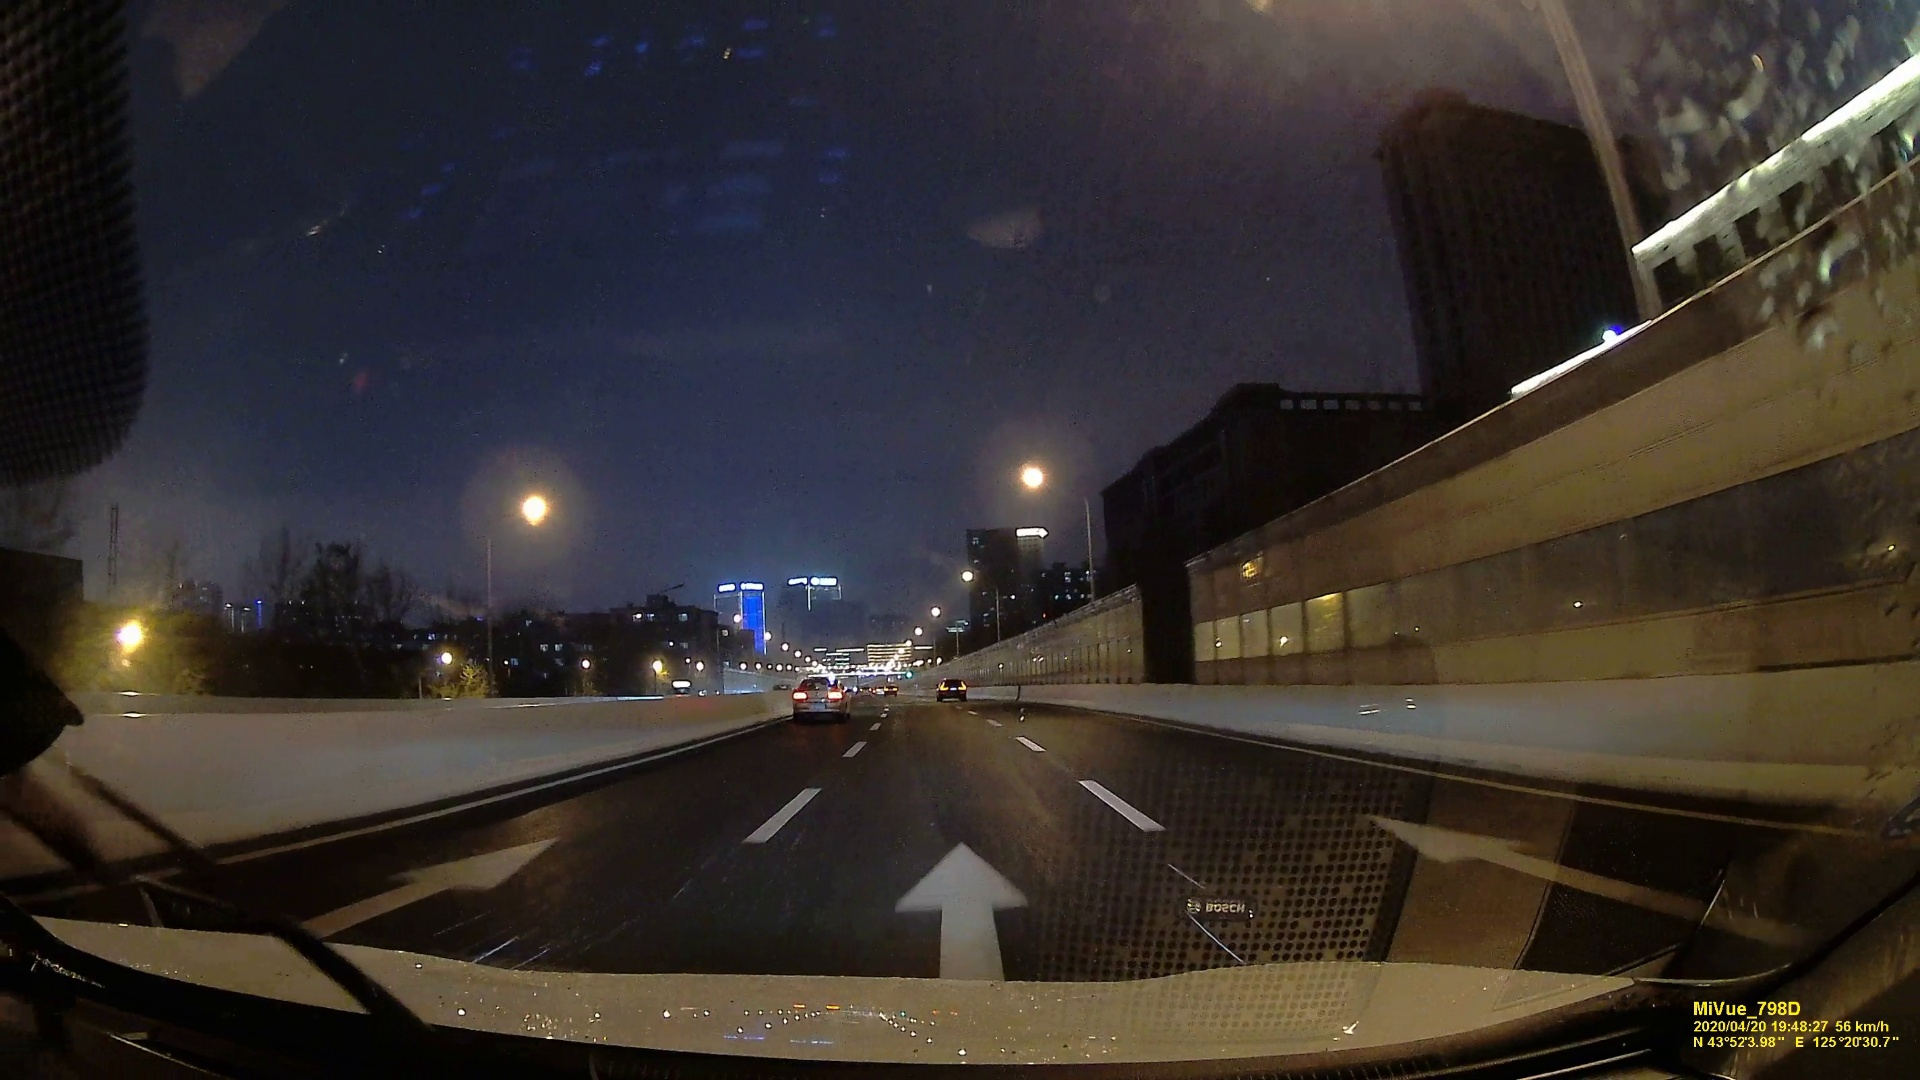vehicle: (791, 675, 847, 723), (934, 678, 964, 699)
